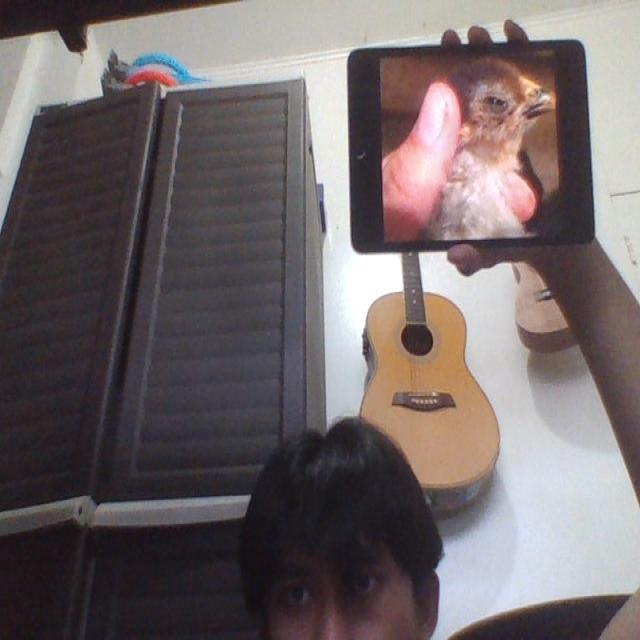Sick: (430, 59, 556, 241)
